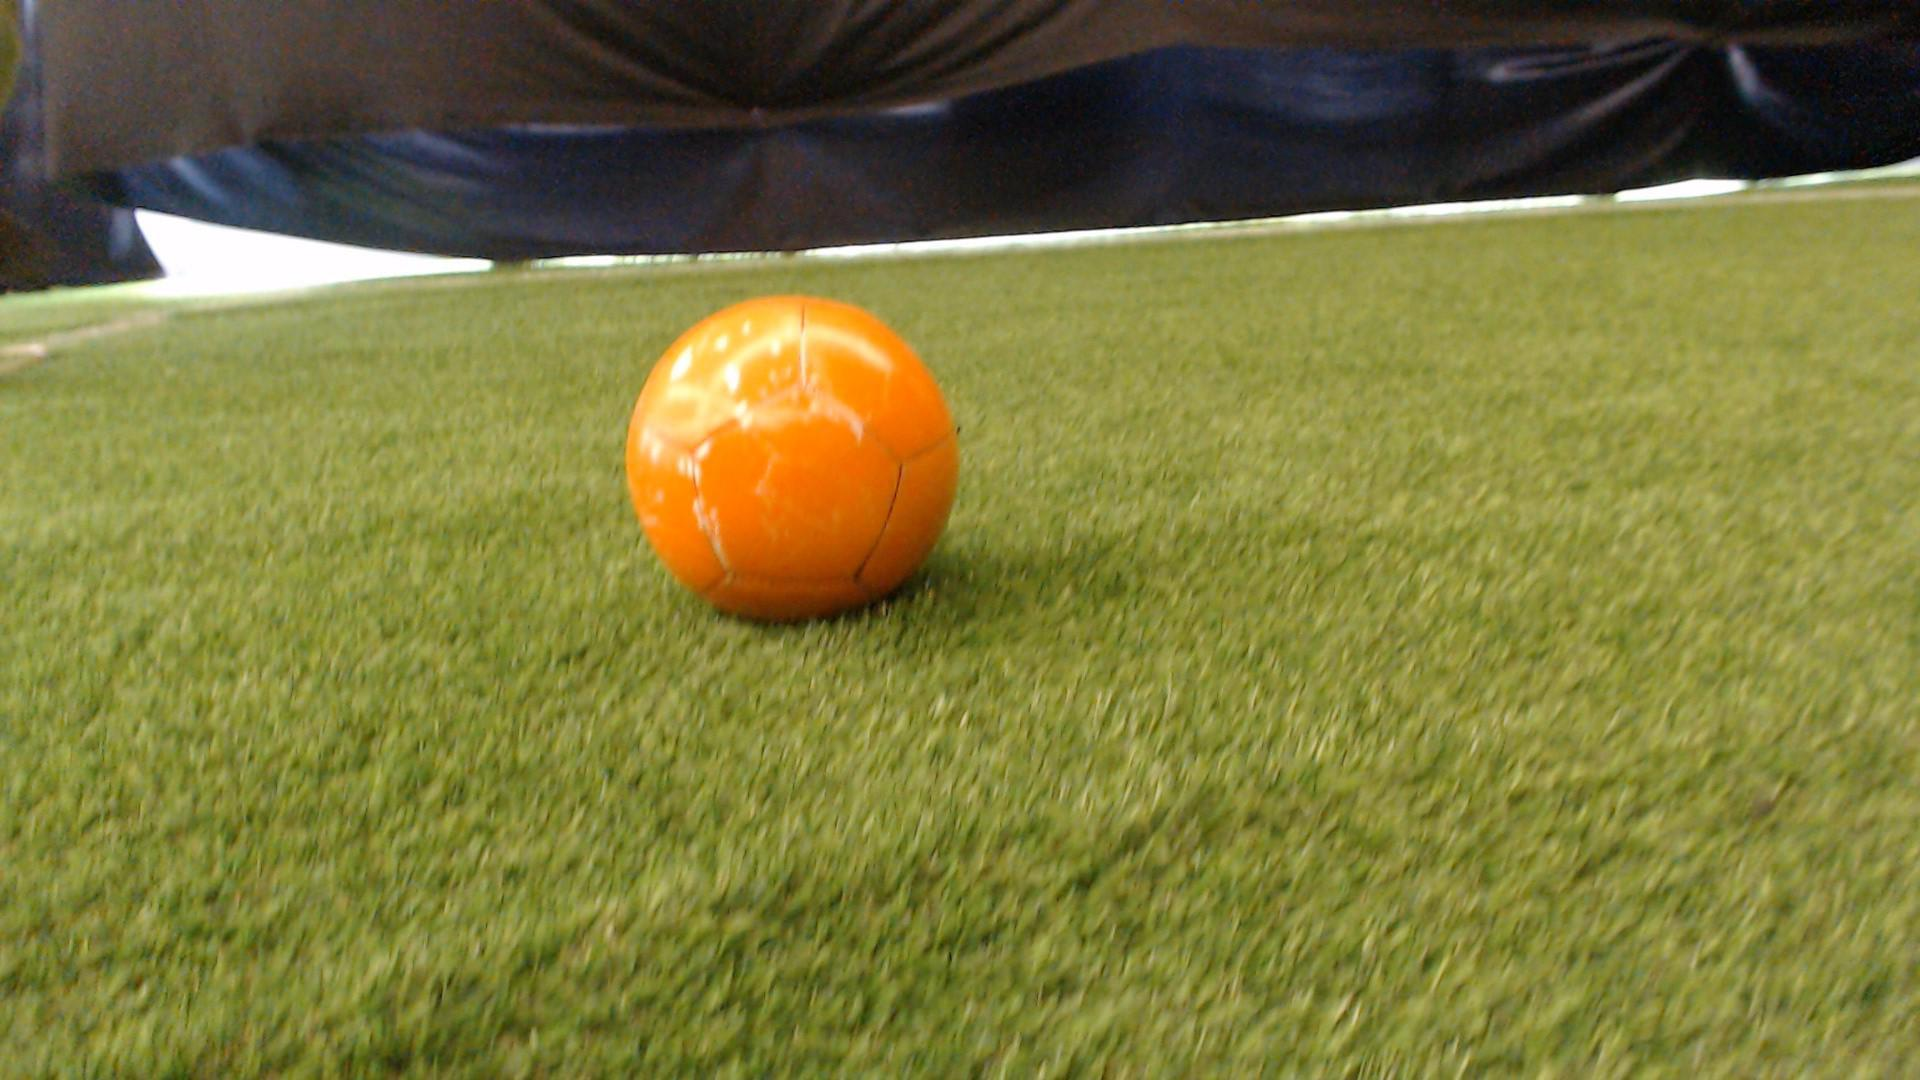bola: (601, 269, 1004, 637)
